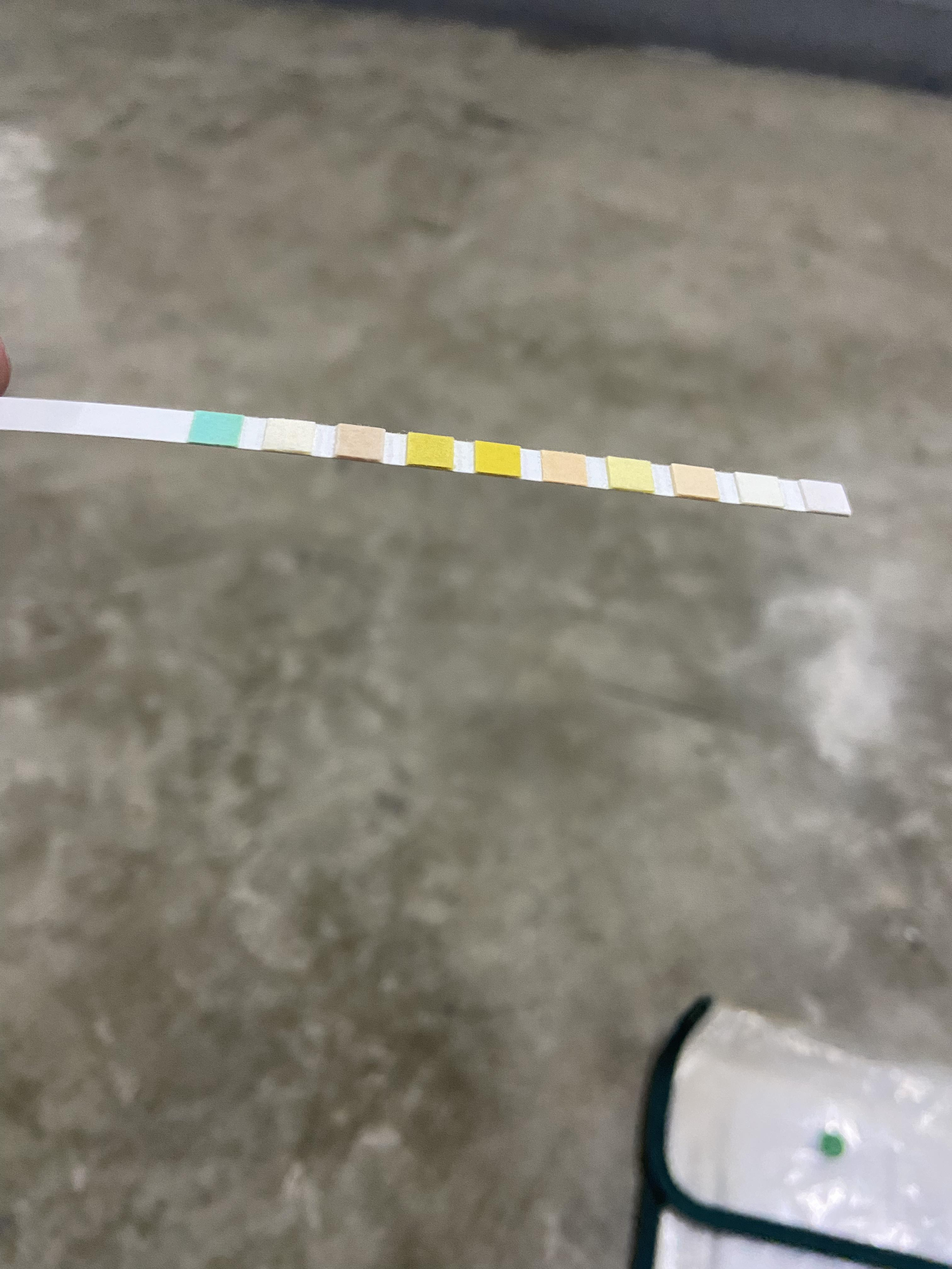Bilirubin: (268, 421, 312, 449)
Blood: (475, 446, 520, 472)
Glucose: (194, 415, 239, 443)
Ketone: (338, 429, 384, 456)
Leukocytes: (808, 484, 842, 510)
Nitrite: (742, 477, 777, 502)
Protein: (611, 461, 651, 487)
SpGravity: (408, 438, 454, 464)
Urobilinogen: (678, 468, 714, 494)
pH: (544, 454, 585, 481)
strip: (1, 397, 850, 515)
